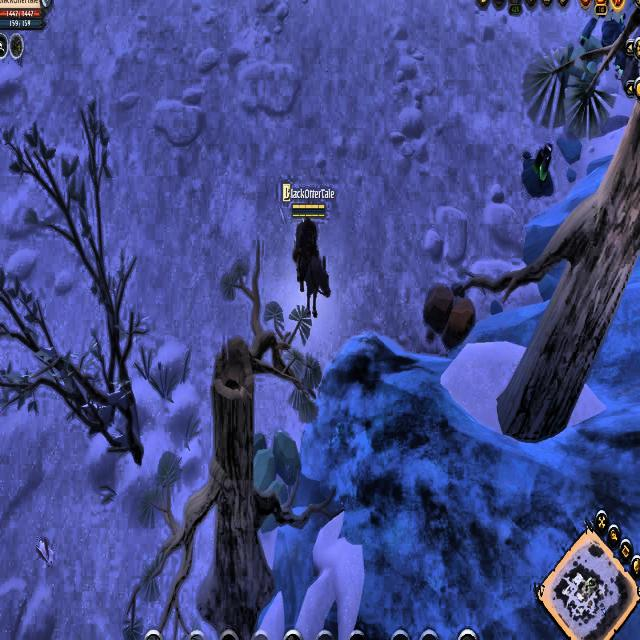limestone: (420, 282, 476, 349)
sandstone: (244, 424, 302, 530)
tinore: (519, 141, 556, 197)
